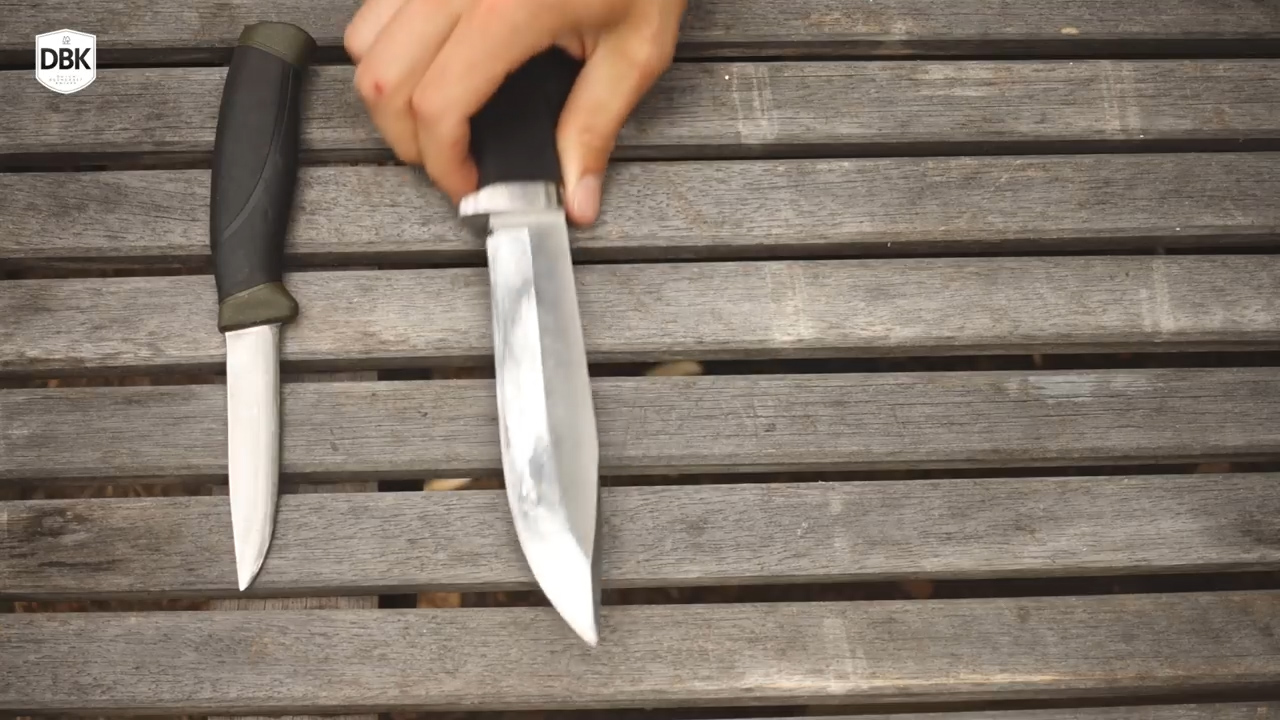knife: (405, 105, 645, 666), (179, 237, 308, 615)
